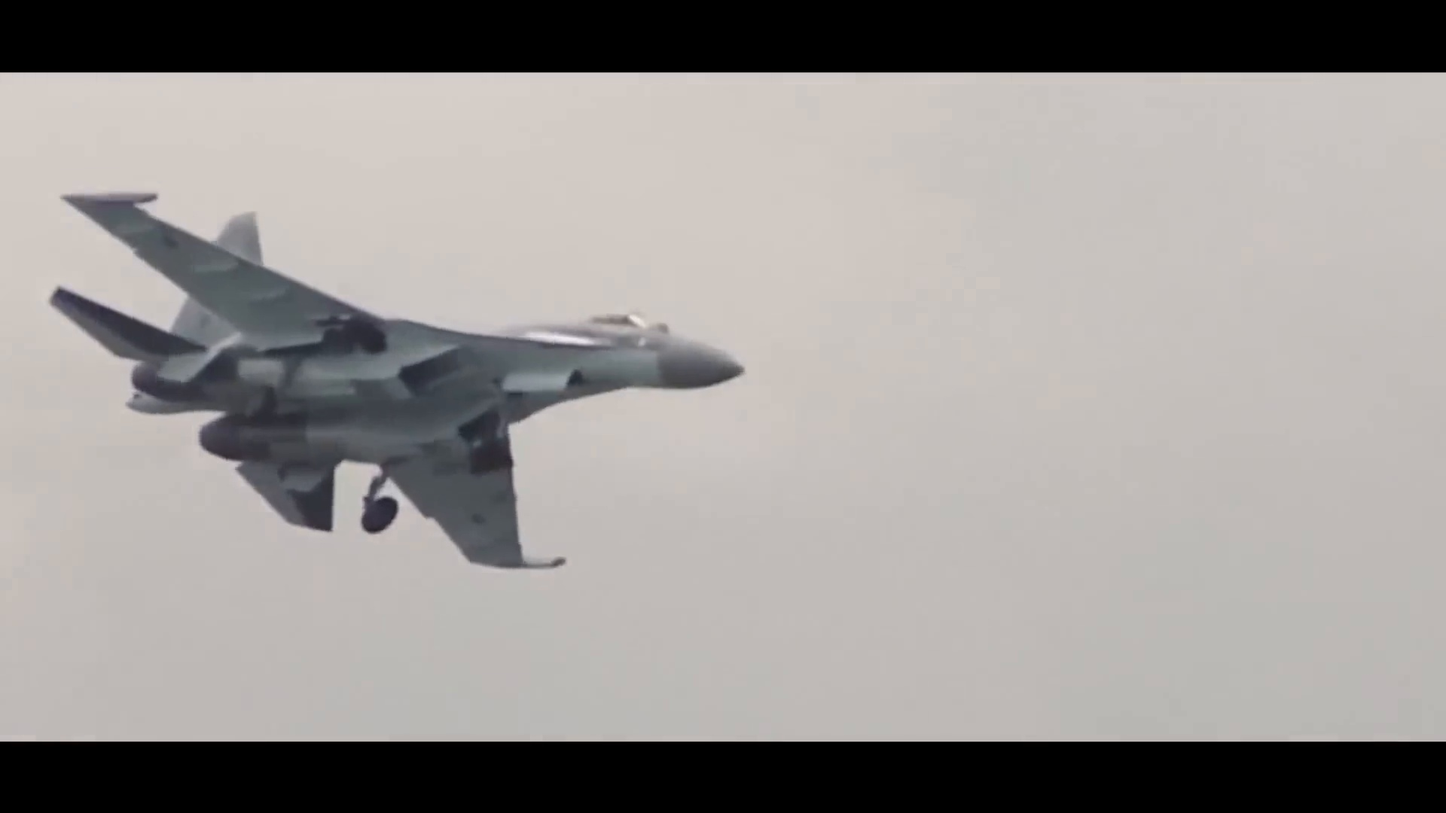Su35: (47, 192, 746, 570)
